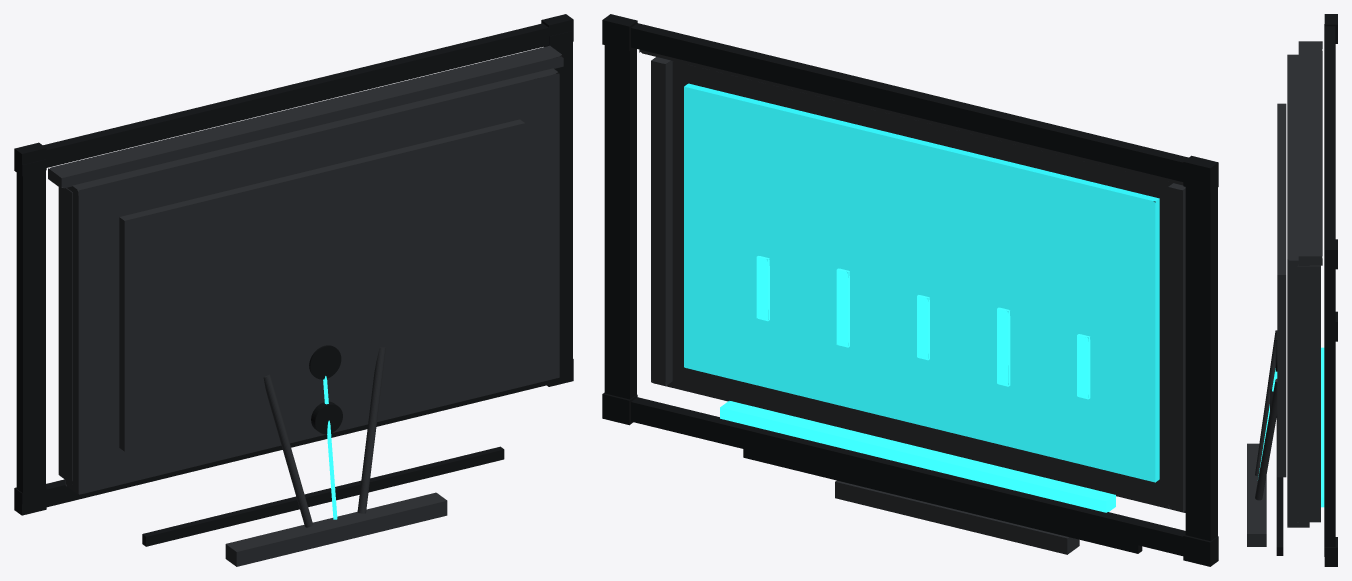
File: upper_monitor_1.glb
3 views of the same model, side by side, from view 1: azimuth 30°, elevation 25°; view 2: azimuth 150°, elevation 25°; view 3: azimuth 270°, elevation 25° (orthographic). The views are drawn at different scales.
Parts seen in each view (by area): view 1: arda_layered_rear_backplate, upper_monitor_1_rear_bezel, upper_monitor_1_top_trim, arda_armor_top_beveled_graphite, arda_armor_left_side_module, arda_low_profile_mount_foot, arda_under_screen_mount_rail, arda_armor_right_side_module, upper_monitor_1_left_side_bezel, arda_armor_bottom_beveled_graphite, arda_right_articulated_support_arm, arda_left_articulated_support_arm (+2 smaller); view 2: upper_monitor_1_screen_plane, upper_monitor_1_rear_bezel, arda_armor_top_beveled_graphite, arda_armor_bottom_beveled_graphite, arda_armor_left_side_module, arda_armor_right_side_module, upper_monitor_1_bottom_cyan_trace, upper_monitor_1_right_side_bezel, upper_monitor_1_left_side_bezel, arda_low_profile_mount_foot, arda_under_screen_mount_rail, upper_monitor_1_top_trim (+9 smaller); view 3: upper_monitor_1_right_side_bezel, upper_monitor_1_top_trim, upper_monitor_1_rear_bezel, arda_layered_rear_backplate, arda_armor_right_side_module, arda_armor_top_beveled_graphite, arda_low_profile_mount_foot, arda_right_articulated_support_arm, arda_under_screen_mount_rail, arda_left_articulated_support_arm, upper_monitor_1_bottom_cyan_trace, arda_corner_armor_r_t (+4 smaller).
Boxes of the visible parts, x1,y1,x2,y2 form: arda_layered_rear_backplate: (119,119,524,451); upper_monitor_1_rear_bezel: (65,68,559,494); upper_monitor_1_top_trim: (48,45,563,188); arda_armor_top_beveled_graphite: (43,23,548,167); arda_armor_left_side_module: (16,159,45,504); arda_low_profile_mount_foot: (225,492,447,566); arda_under_screen_mount_rail: (142,446,504,546); arda_armor_right_side_module: (544,31,572,373); upper_monitor_1_left_side_bezel: (58,187,78,484); arda_armor_bottom_beveled_graphite: (46,380,548,507); arda_right_articulated_support_arm: (357,347,385,513); arda_left_articulated_support_arm: (263,374,313,527); upper_monitor_1_screen_plane: (684,83,1159,482); upper_monitor_1_rear_bezel: (663,61,1185,512); arda_armor_top_beveled_graphite: (631,23,1188,181); arda_armor_bottom_beveled_graphite: (631,397,1185,555); arda_armor_left_side_module: (1185,187,1217,541); arda_armor_right_side_module: (604,45,636,399); upper_monitor_1_bottom_cyan_trace: (720,401,1115,512); upper_monitor_1_right_side_bezel: (651,57,672,386); upper_monitor_1_left_side_bezel: (1168,183,1185,512); arda_low_profile_mount_foot: (835,480,1079,554); arda_under_screen_mount_rail: (743,449,1142,553); upper_monitor_1_top_trim: (639,49,1183,185); upper_monitor_1_right_side_bezel: (1297,265,1320,522); upper_monitor_1_top_trim: (1298,41,1322,265); upper_monitor_1_rear_bezel: (1287,54,1309,527); arda_layered_rear_backplate: (1277,103,1286,477); arda_armor_right_side_module: (1324,250,1335,556); arda_armor_top_beveled_graphite: (1324,26,1335,239); arda_low_profile_mount_foot: (1247,443,1266,546); arda_right_articulated_support_arm: (1255,379,1277,500); arda_under_screen_mount_rail: (1276,414,1283,555); arda_left_articulated_support_arm: (1255,330,1277,476); upper_monitor_1_bottom_cyan_trace: (1321,347,1324,507); arda_corner_armor_r_t: (1324,239,1337,269).
Size of the model in its own units: 1.86 by 1.36 by 0.3023.
